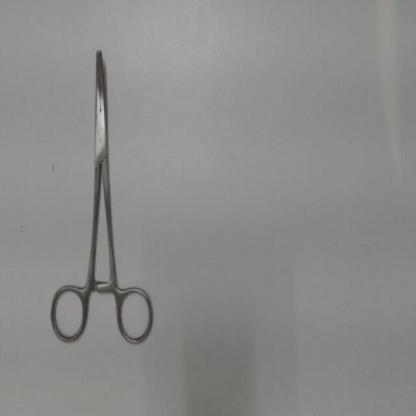Crile Artery Forceps: (43, 44, 160, 356)
